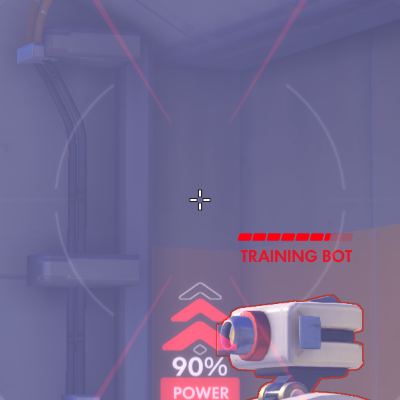hpbar: (237, 232, 354, 242)
